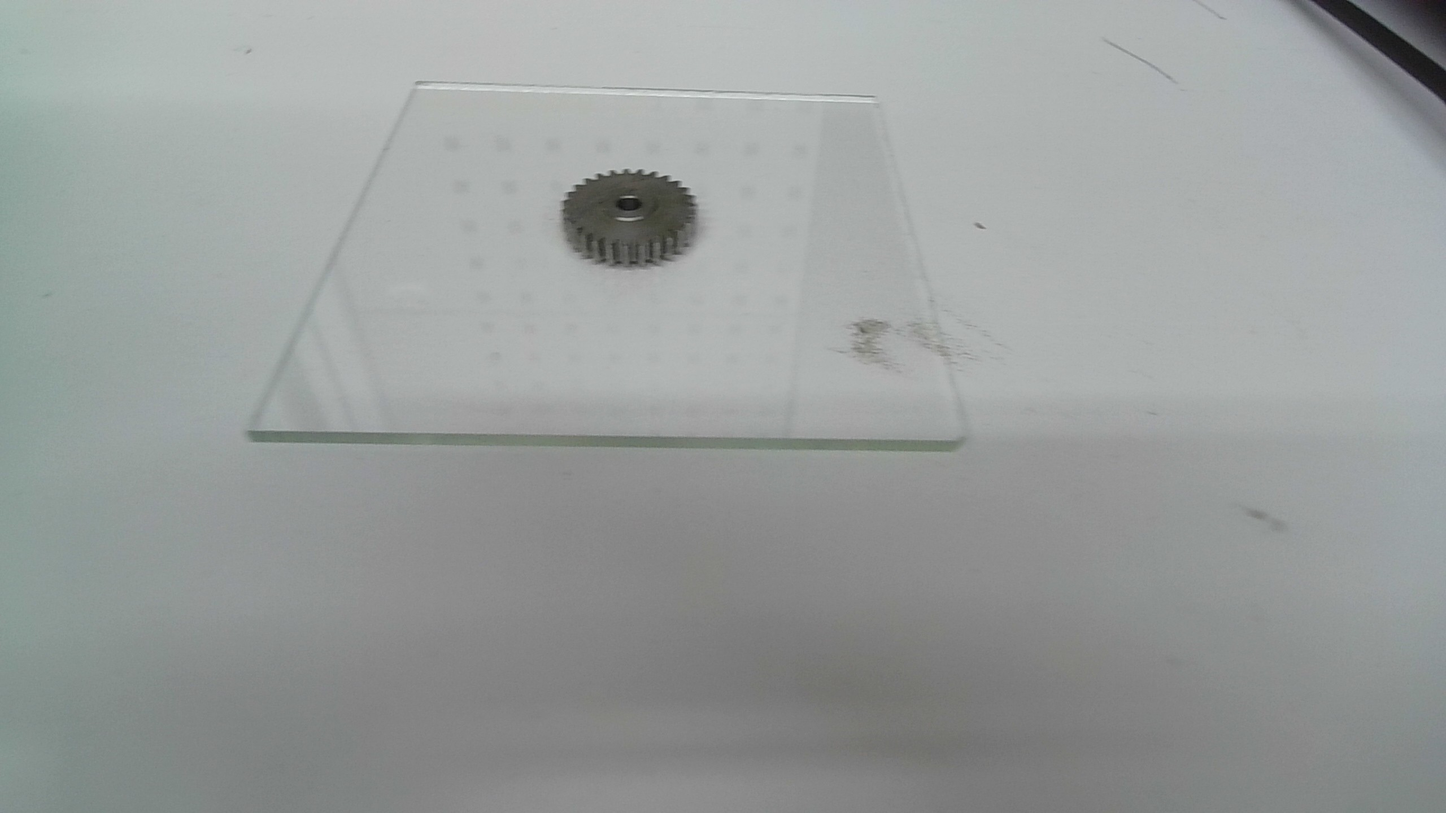gear: (559, 166, 699, 269)
